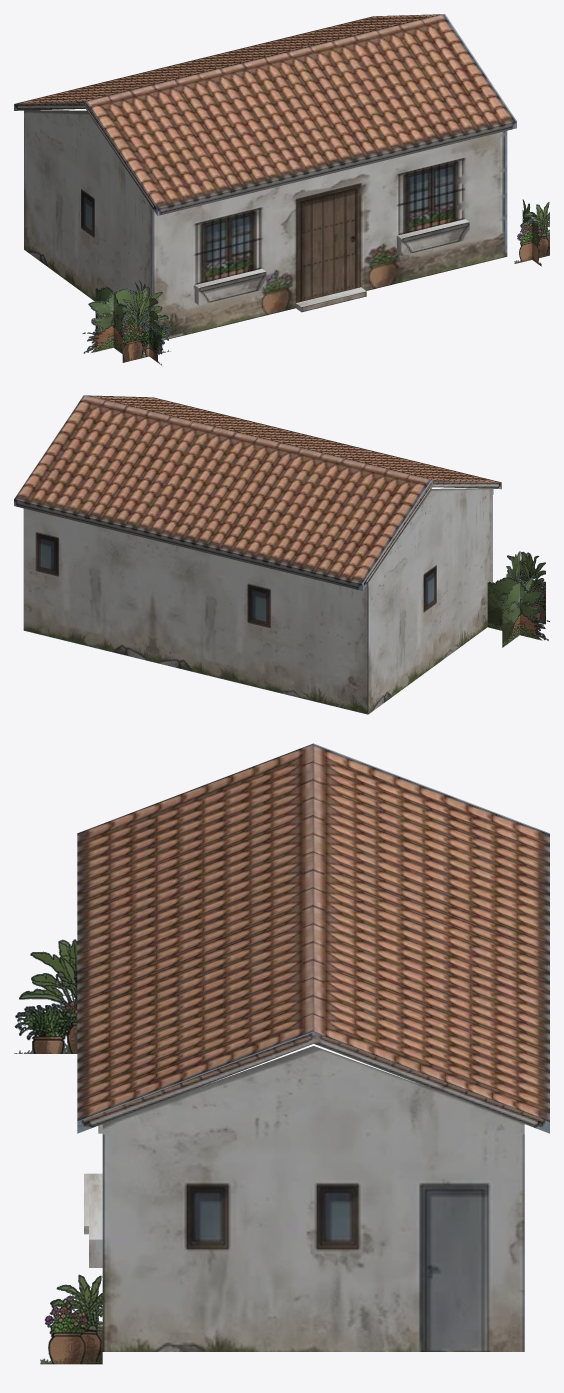
The model's file is casa_andaluza_5v.glb.
3 renders of one model, top to bottom at view 1: azimuth 30°, elevation 25°; view 2: azimuth 150°, elevation 25°; view 3: azimuth 270°, elevation 25°, orthographic. The views are drawn at different scales.
Visible parts, largest first — view 1: CA5_Casa, CA5_Plantas; view 2: CA5_Casa, CA5_Plantas; view 3: CA5_Casa, CA5_Plantas.
Boxes of the visible parts, x1=… form: CA5_Casa: x1=14, y1=14, x2=516, y2=340; CA5_Plantas: x1=82, y1=199, x2=549, y2=365; CA5_Casa: x1=14, y1=395, x2=501, y2=714; CA5_Plantas: x1=487, y1=551, x2=549, y2=647; CA5_Casa: x1=77, y1=743, x2=549, y2=1351; CA5_Plantas: x1=14, y1=939, x2=102, y2=1364.
Bounding box in the file's own units: 10.2 × 4.2 × 6.35.
Materials: 2 (2 with a texture image).
